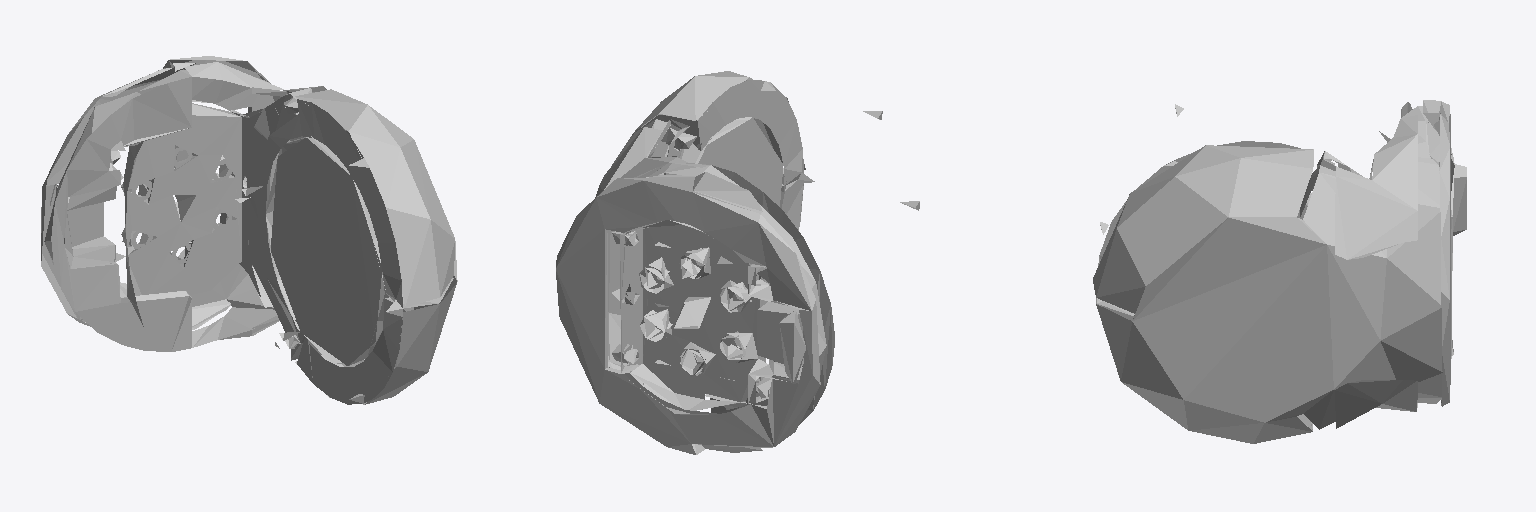
3 views of the same model, side by side, from view 1: azimuth 30°, elevation 25°; view 2: azimuth 150°, elevation 25°; view 3: azimuth 270°, elevation 25° (orthographic).
Parts seen in each view (by area): view 1: link1_3; view 2: link1_3; view 3: link1_3.
Boxes of the visible parts, box(x1,y1,x2,y2) form: link1_3: box(41, 56, 457, 404); link1_3: box(556, 71, 919, 454); link1_3: box(1093, 100, 1466, 443).
Bounding box in the file's own units: 94.51 × 94.93 × 113.